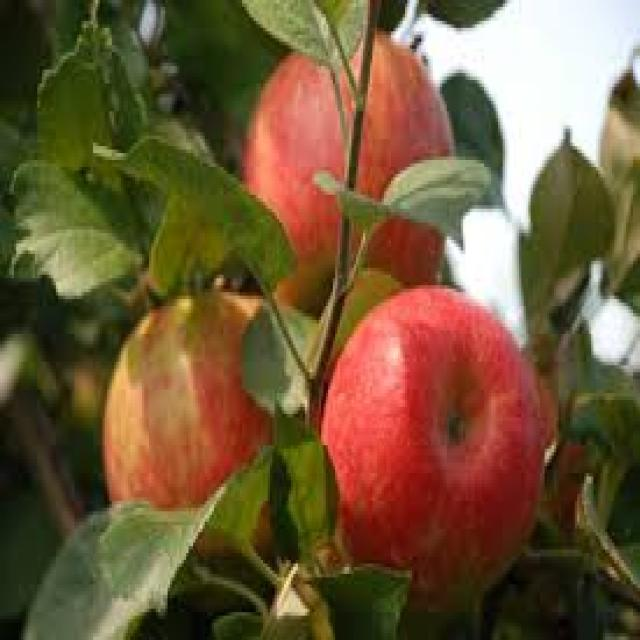apple: (318, 284, 546, 610)
